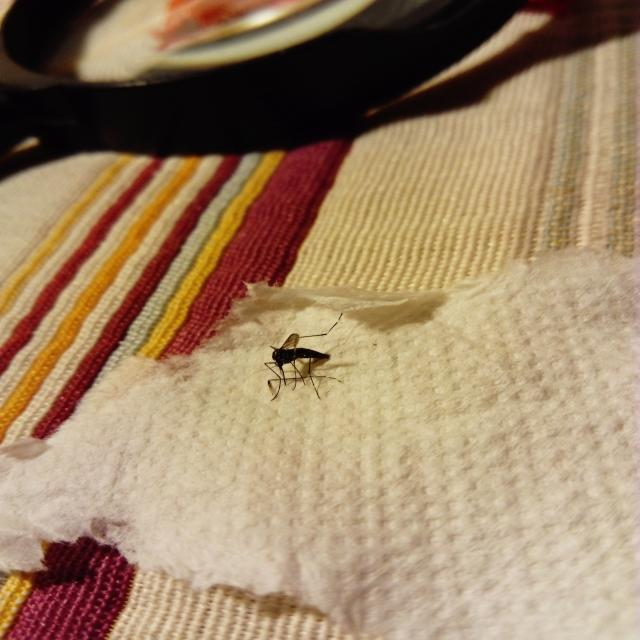albopictus: (254, 311, 346, 402)
